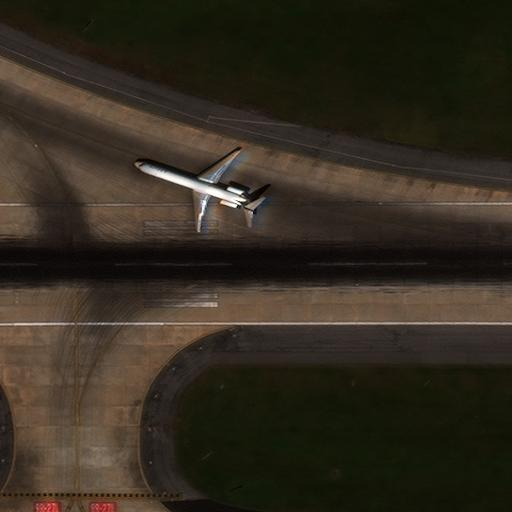Medium Civil Transport: (135, 149, 258, 231)
